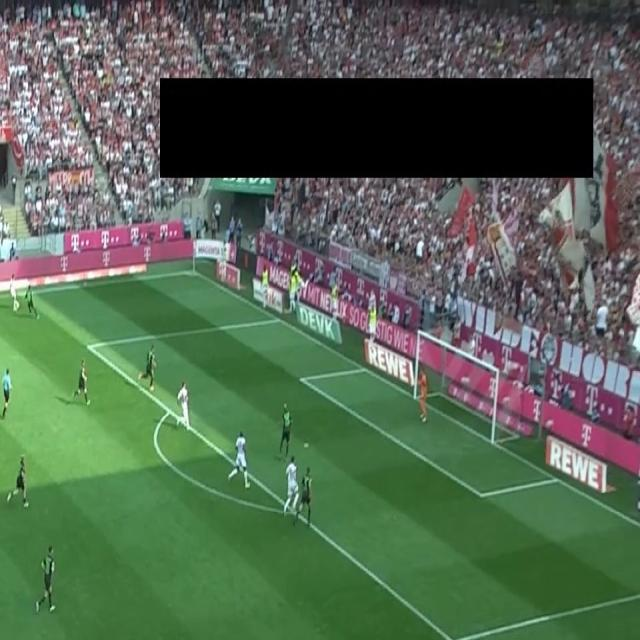ball: (15, 300, 20, 310)
